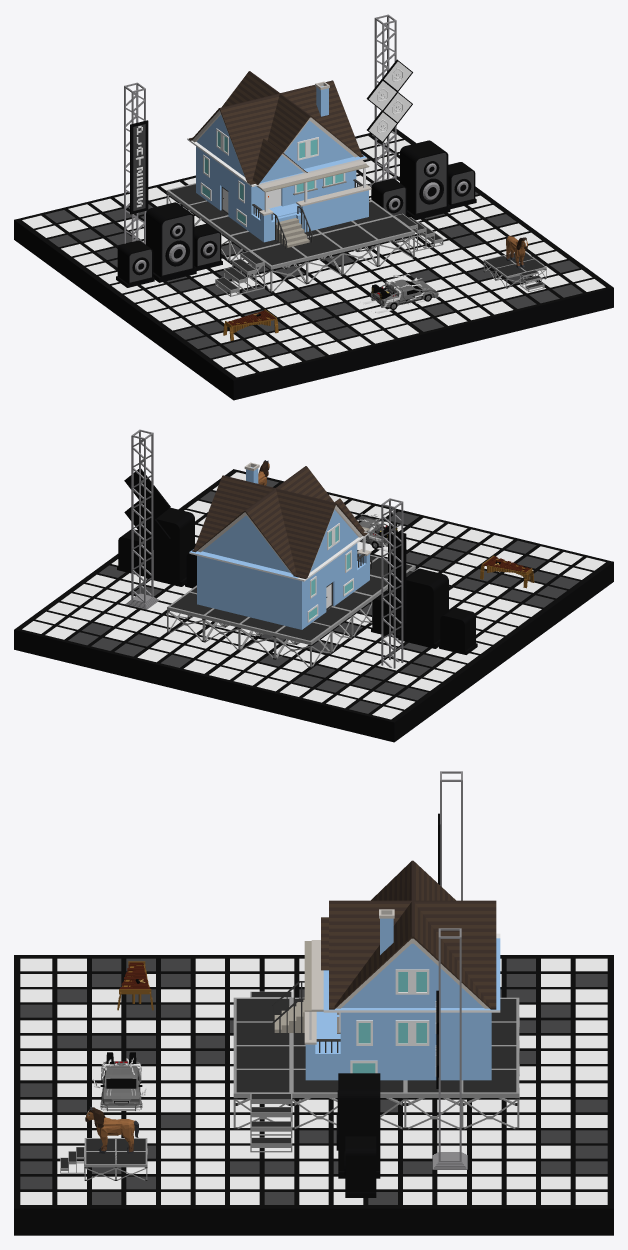
3 renders of one model, top to bottom at view 1: azimuth 30°, elevation 25°; view 2: azimuth 150°, elevation 25°; view 3: azimuth 270°, elevation 25°, orthographic. The views are drawn at different scales.
Parts seen in each view (by area): view 1: Cube.008, Cube.1594, VEHICLES_DELOREAN, OBJRANDOM_MARIMBA, ANIMAL_CABALLO; view 2: Cube.008, Cube.1594, OBJRANDOM_MARIMBA, VEHICLES_DELOREAN; view 3: Cube.008, Cube.1594, VEHICLES_DELOREAN, ANIMAL_CABALLO, OBJRANDOM_MARIMBA.
Boxes of the visible parts, box(x1,y1,x2,y2) form: Cube.008: box(14, 14, 613, 400); Cube.1594: box(187, 71, 371, 248); VEHICLES_DELOREAN: box(358, 274, 438, 313); OBJRANDOM_MARIMBA: box(223, 309, 278, 340); ANIMAL_CABALLO: box(506, 235, 527, 268); Cube.008: box(14, 429, 613, 742); Cube.1594: box(189, 462, 372, 629); OBJRANDOM_MARIMBA: box(480, 555, 534, 588); VEHICLES_DELOREAN: box(357, 513, 408, 551); Cube.008: box(14, 771, 613, 1235); Cube.1594: box(272, 860, 500, 1080); VEHICLES_DELOREAN: box(92, 1052, 146, 1110); ANIMAL_CABALLO: box(85, 1107, 138, 1153); OBJRANDOM_MARIMBA: box(117, 961, 153, 1010).
Size of the model in its own units: 4000 by 1945 by 4000.
44 materials, 1 textured.
